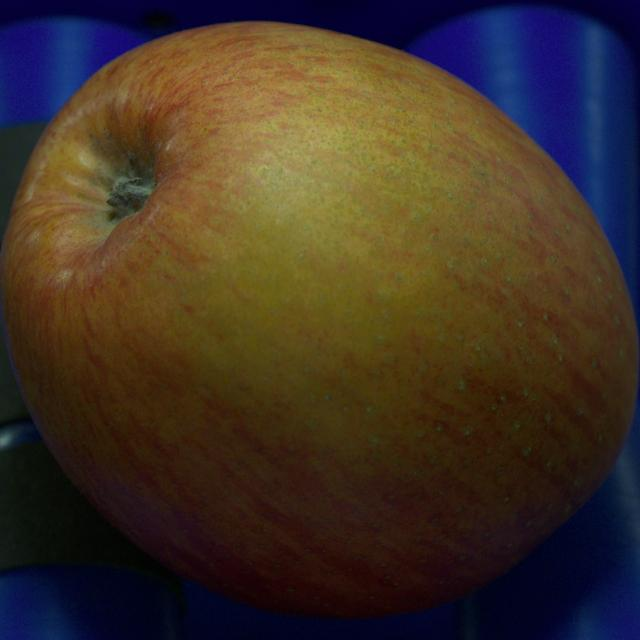apple: (0, 22, 639, 617)
